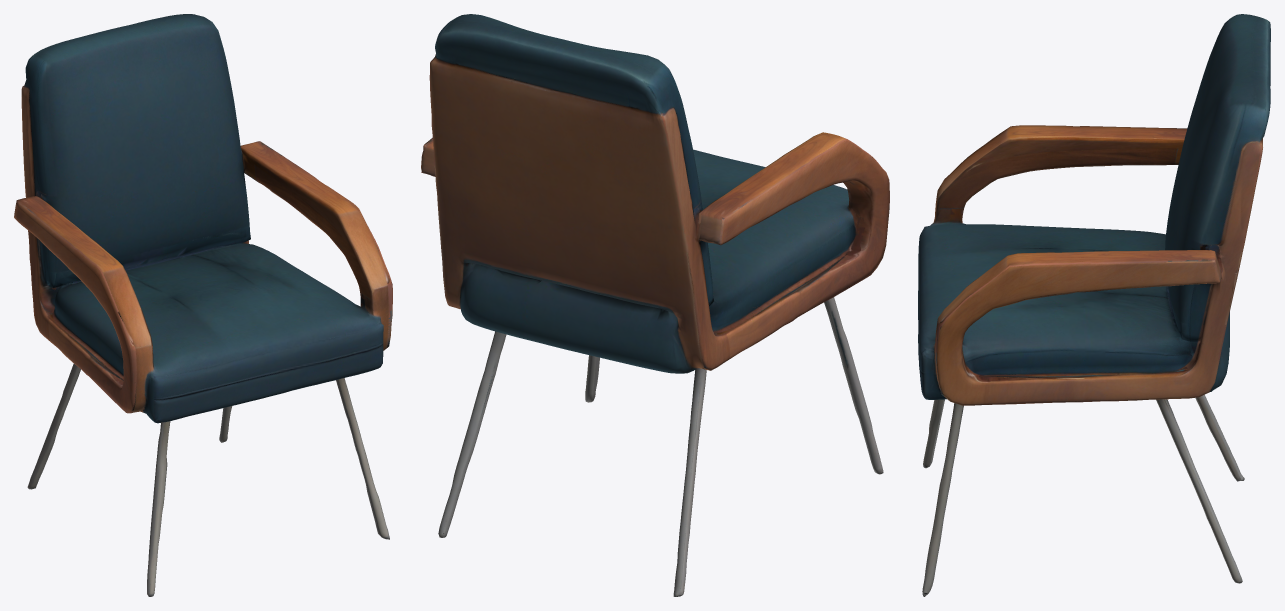
Rendered from chair.glb.
3 views of the same model, side by side, from view 1: azimuth 30°, elevation 25°; view 2: azimuth 150°, elevation 25°; view 3: azimuth 270°, elevation 25° (orthographic). The views are drawn at different scales.
Parts seen in each view (by area): view 1: Chair; view 2: Chair; view 3: Chair.
Part boxes in pixels (left/top/right/bottom): Chair: left=14, top=14, right=392, bottom=596; Chair: left=421, top=14, right=889, bottom=596; Chair: left=918, top=14, right=1270, bottom=596.
Bounding box in the file's own units: 1.28 × 2 × 1.33.
1 material, 1 textured.
